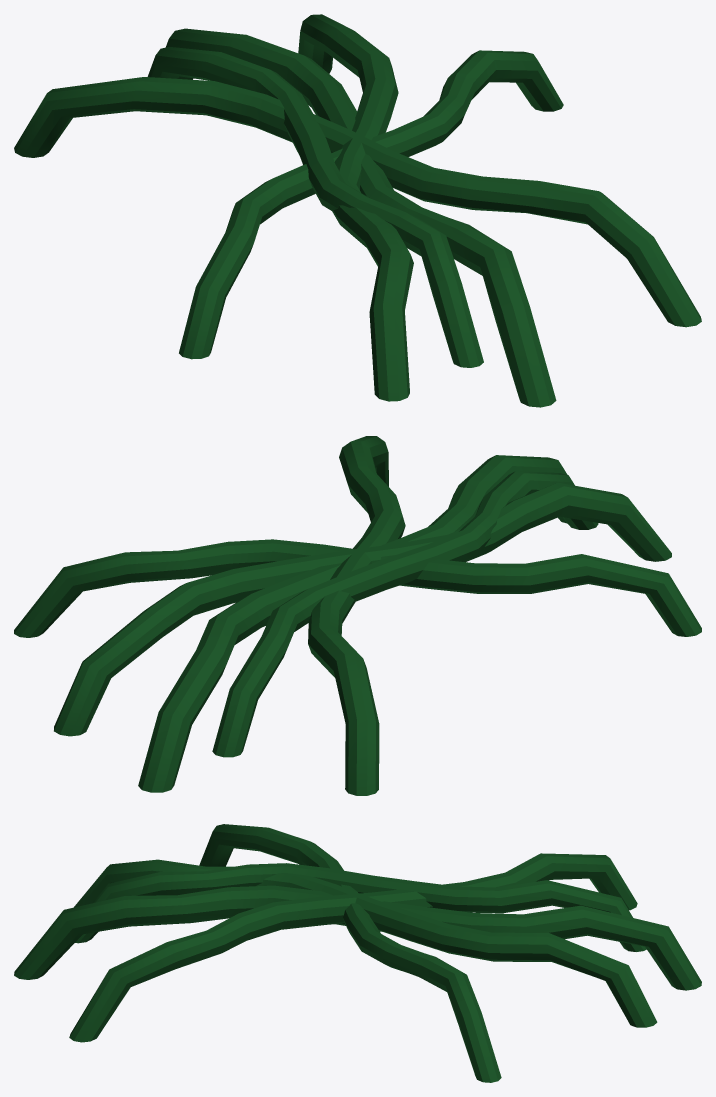
The model's file is Env_VineClump.obj.
The picture shows the model from 3 angles, top to bottom: view 1: azimuth 30°, elevation 25°; view 2: azimuth 150°, elevation 25°; view 3: azimuth 270°, elevation 25°; orthographic projection. The views are drawn at different scales.
Visible parts, largest first — view 1: pasted__pasted__pasted__pCylinder4; view 2: pasted__pasted__pasted__pCylinder4; view 3: pasted__pasted__pasted__pCylinder4.
Part boxes in pixels (x1,y1,x2,y2): pasted__pasted__pasted__pCylinder4: [14, 14, 701, 407]; pasted__pasted__pasted__pCylinder4: [14, 436, 701, 795]; pasted__pasted__pasted__pCylinder4: [14, 824, 701, 1082].
Size of the model in its own units: 187 by 36.59 by 249.
